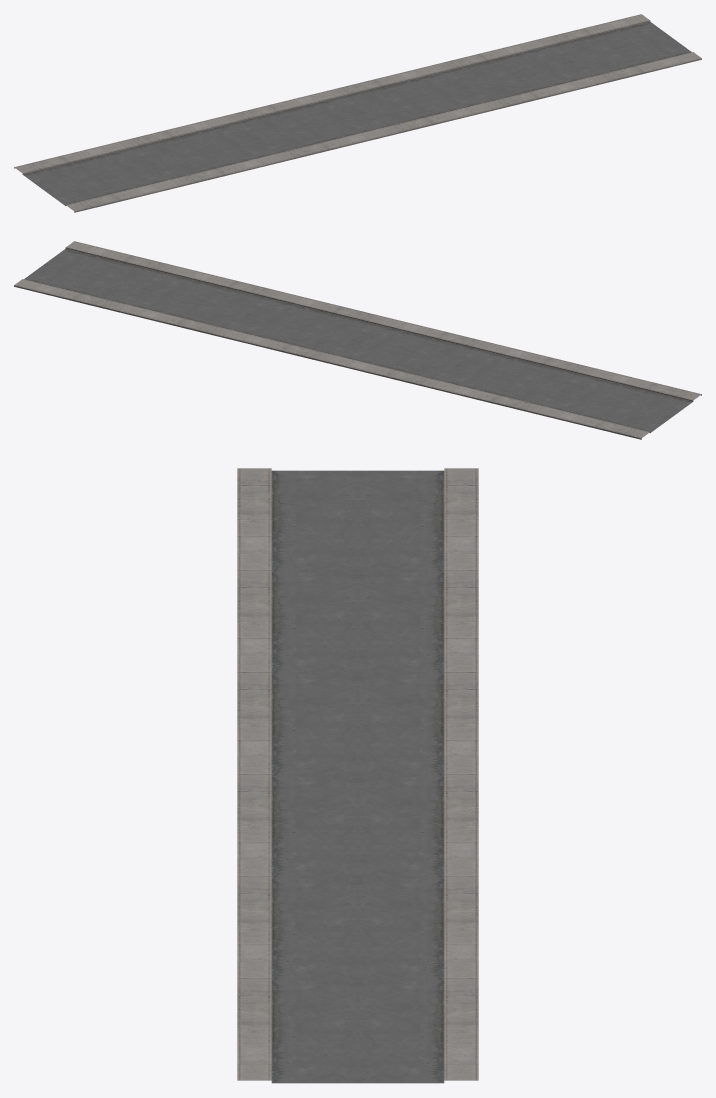
File: Suburbs_roads1_long.fbx
The picture shows the model from 3 angles, top to bottom: view 1: azimuth 30°, elevation 25°; view 2: azimuth 150°, elevation 25°; view 3: azimuth 270°, elevation 25°; orthographic projection. The views are drawn at different scales.
Parts seen in each view (by area): view 1: Suburbs_road1_long; view 2: Suburbs_road1_long; view 3: Suburbs_road1_long.
Boxes of the visible parts, x1=… form: Suburbs_road1_long: x1=14, y1=14, x2=701, y2=212; Suburbs_road1_long: x1=14, y1=241, x2=701, y2=439; Suburbs_road1_long: x1=237, y1=468, x2=478, y2=1083.
Size of the model in its own units: 8400 by 18.51 by 1400.
